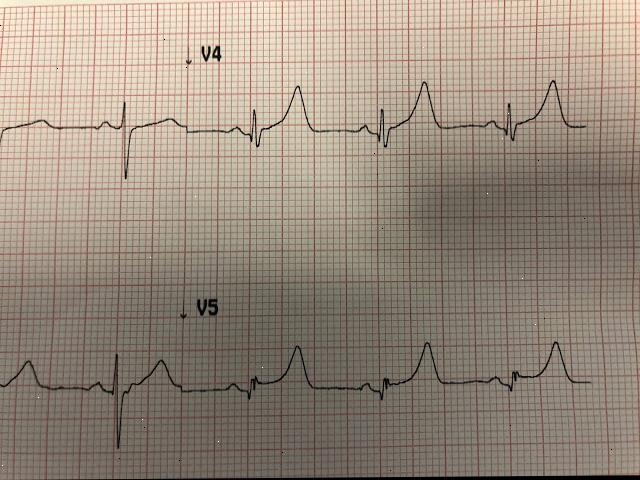Lead_V4: (0, 28, 598, 199)
Lead_V5: (0, 279, 605, 464)
